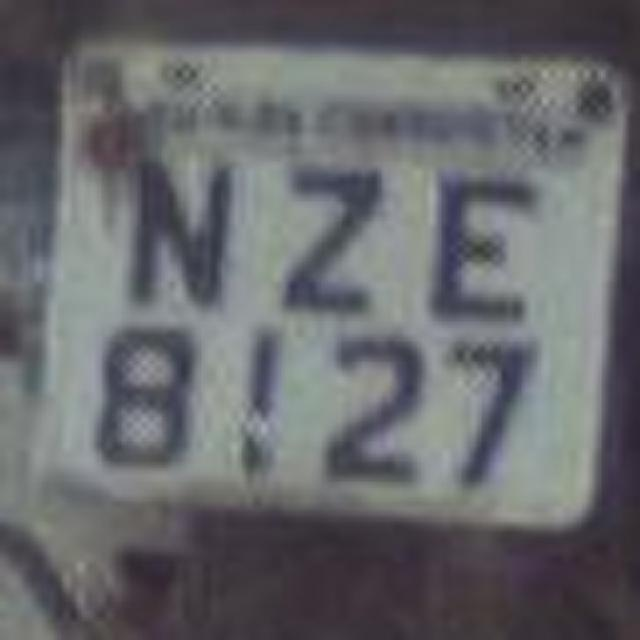1: (209, 308, 316, 480)
2: (300, 315, 445, 500)
7: (420, 312, 548, 492)
8: (76, 304, 212, 491)
E: (416, 160, 532, 315)
N: (104, 135, 236, 320)
Z: (264, 155, 391, 320)
